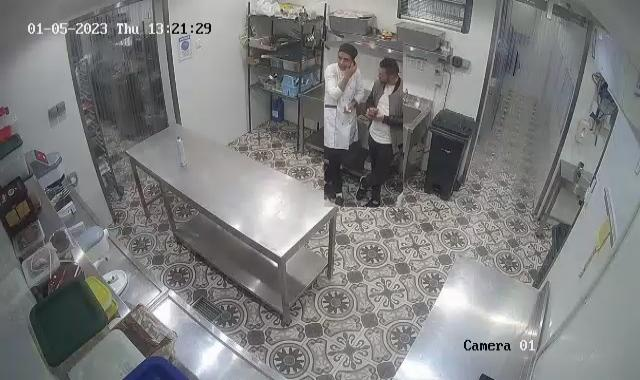no_hairnet: (336, 39, 359, 66), (378, 54, 400, 82)
